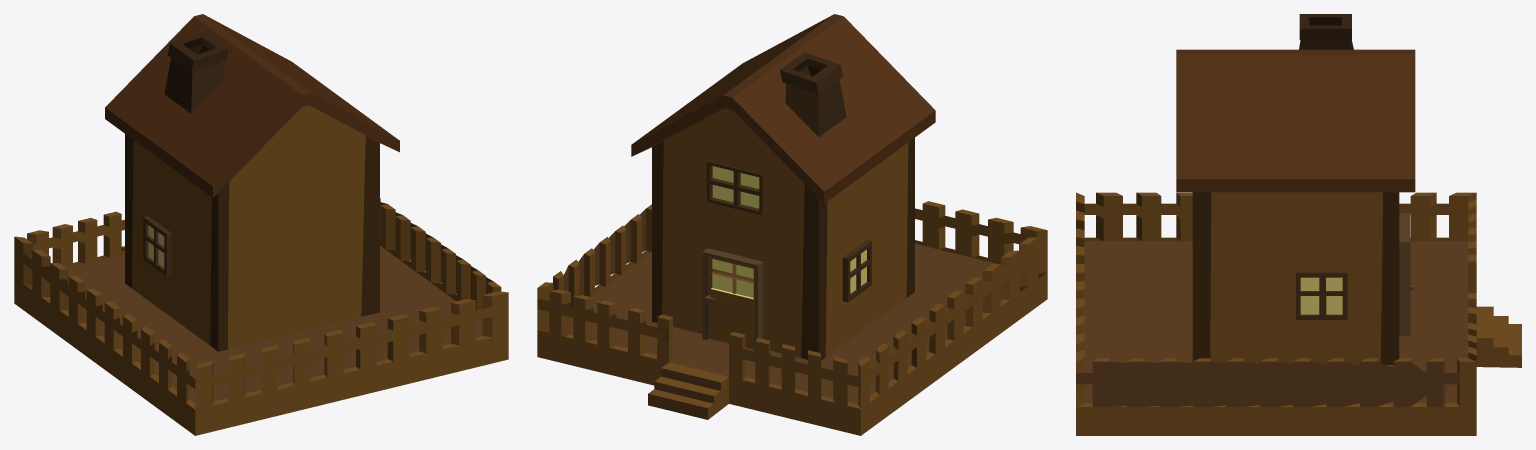
The model's file is kahverengi ev.fbx.
3 views of the same model, side by side, from view 1: azimuth 30°, elevation 25°; view 2: azimuth 150°, elevation 25°; view 3: azimuth 270°, elevation 25° (orthographic). The views are drawn at different scales.
Parts seen in each view (by area): view 1: Cube.002; view 2: Cube.002; view 3: Cube.002.
Part boxes in pixels (x1=…): Cube.002: x1=14, y1=14, x2=508, y2=435; Cube.002: x1=537, y1=14, x2=1047, y2=435; Cube.002: x1=1076, y1=14, x2=1521, y2=435.
Bounding box in the file's own units: 1268 × 1088 × 1411.
